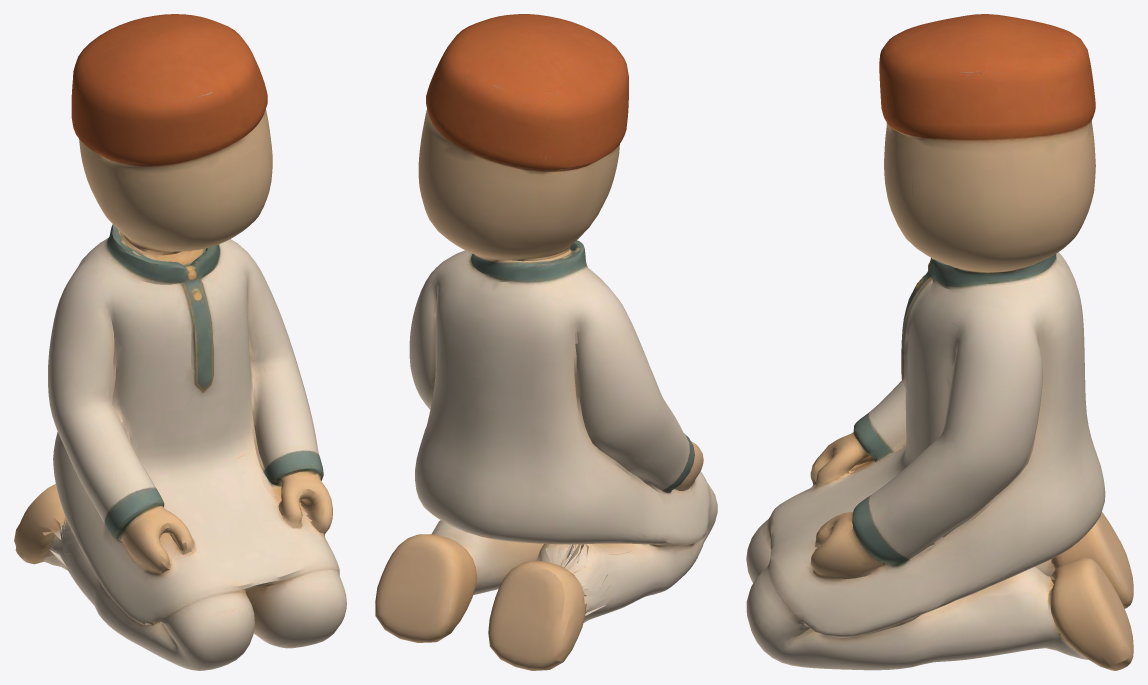
File: Meshy_AI_model.glb
3 renders of one model, left to right at view 1: azimuth 30°, elevation 25°; view 2: azimuth 150°, elevation 25°; view 3: azimuth 270°, elevation 25°, orthographic. The views are drawn at different scales.
Visible parts, largest first — view 1: Mesh0; view 2: Mesh0; view 3: Mesh0.
Part boxes in pixels (x1=…): Mesh0: x1=14, y1=14, x2=346, y2=670; Mesh0: x1=375, y1=14, x2=717, y2=670; Mesh0: x1=746, y1=14, x2=1133, y2=670.
Bounding box in the file's own units: 0.836 × 1.9 × 1.09.
1 material, 1 textured.
